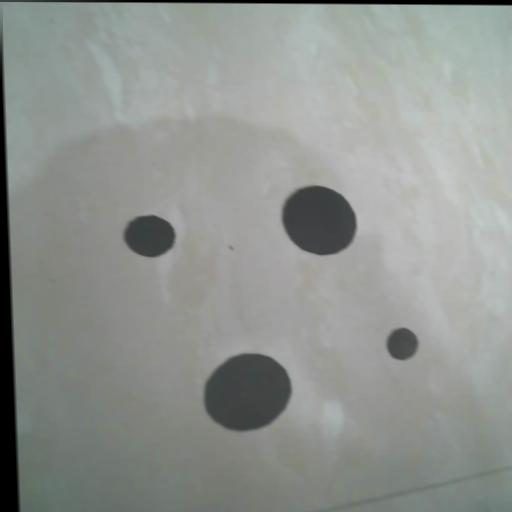pothole: (201, 351, 293, 430), (279, 184, 359, 254), (122, 213, 176, 256), (384, 326, 420, 359)
